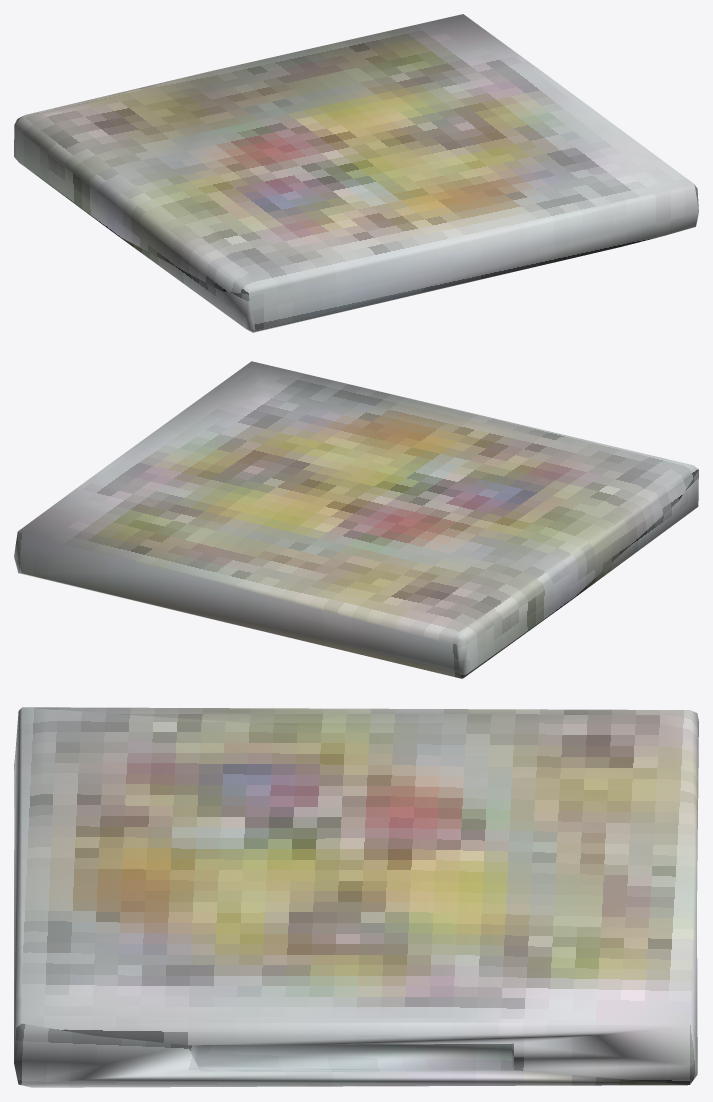
File: Paper_Mario_Sticker_Star_Nintendo_3DS_Game-low.glb
3 renders of one model, top to bottom at view 1: azimuth 30°, elevation 25°; view 2: azimuth 150°, elevation 25°; view 3: azimuth 270°, elevation 25°, orthographic. The views are drawn at different scales.
Parts seen in each view (by area): view 1: Paper_Mario_Sticker_Star_Nintendo_3DS_Game; view 2: Paper_Mario_Sticker_Star_Nintendo_3DS_Game; view 3: Paper_Mario_Sticker_Star_Nintendo_3DS_Game.
Part boxes in pixels (bbox=[...]): Paper_Mario_Sticker_Star_Nintendo_3DS_Game: bbox=[14, 14, 698, 332]; Paper_Mario_Sticker_Star_Nintendo_3DS_Game: bbox=[14, 361, 698, 678]; Paper_Mario_Sticker_Star_Nintendo_3DS_Game: bbox=[14, 707, 698, 1087].
Size of the model in its own units: 0.1371 by 0.0154 by 0.1244.
Materials: 1 (1 with a texture image).
